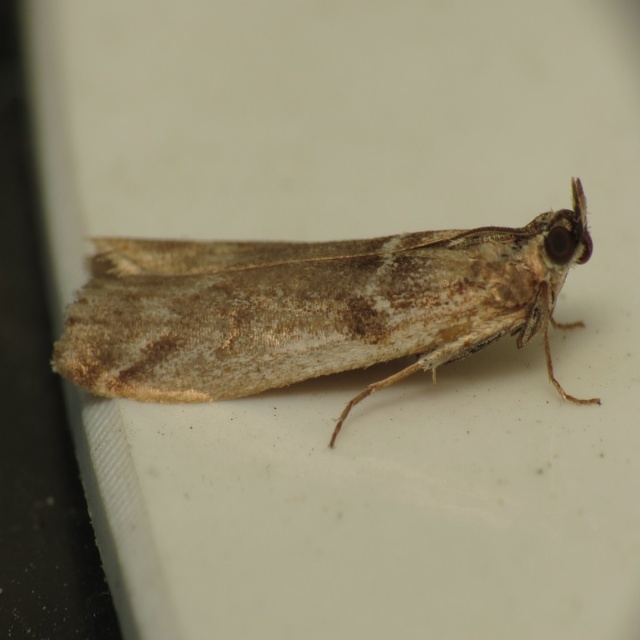Moths and butterflies: (52, 175, 603, 446)
